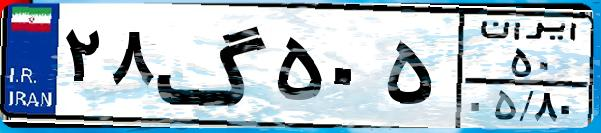0: (330, 28, 385, 110), (560, 70, 590, 125), (537, 27, 568, 80), (470, 70, 495, 125)
2: (57, 26, 110, 100)
5: (270, 28, 330, 110), (385, 28, 445, 110), (508, 27, 537, 80), (495, 70, 520, 125)
8: (110, 28, 156, 98), (535, 70, 560, 125)
گ: (156, 12, 270, 120)
